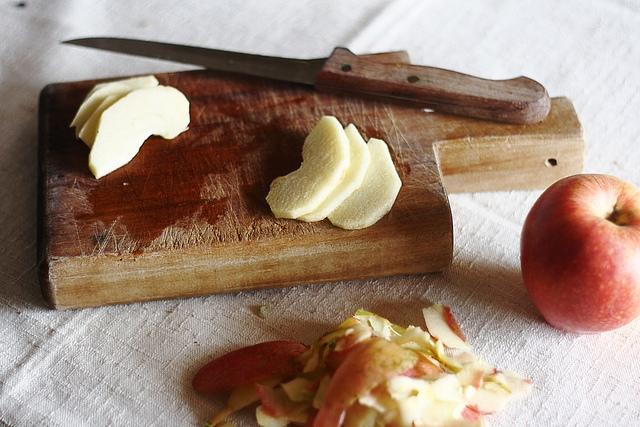apple: (520, 174, 638, 335), (311, 336, 418, 426), (88, 86, 190, 179), (265, 115, 350, 219), (296, 124, 369, 222), (328, 138, 402, 229), (192, 340, 310, 393), (70, 85, 134, 138), (79, 94, 128, 149)
